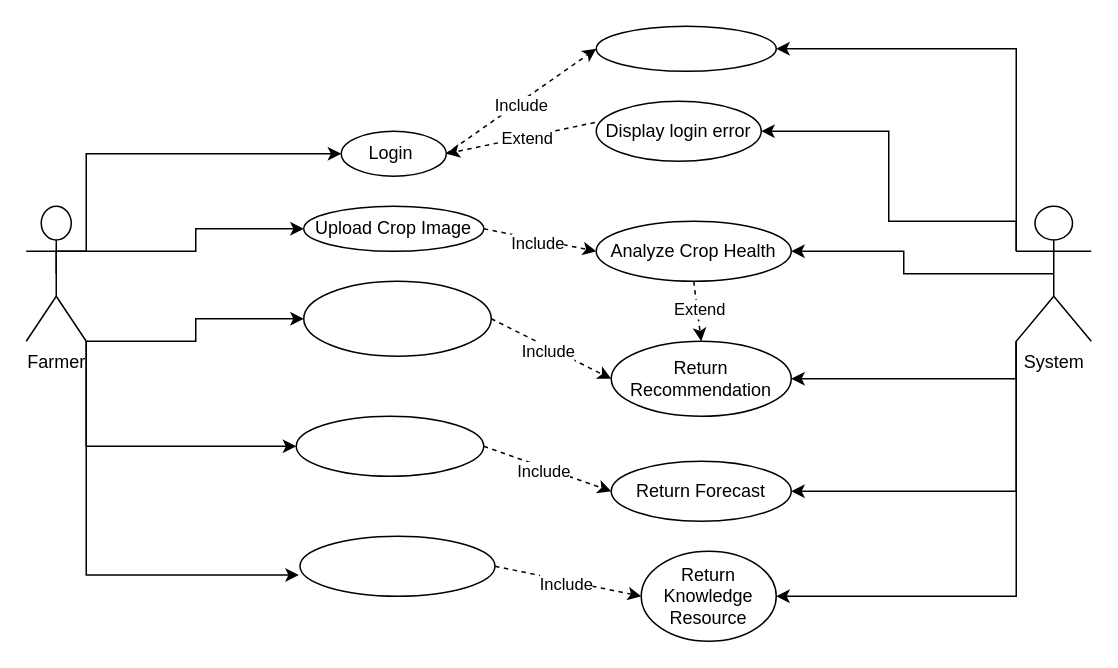
Image size: 1118x668. Some labels were removed from this diagram. Each missing label, with the box of its shape:
Access knowledge base: (298, 535, 495, 596)
Check Weather Forecast: (295, 415, 484, 476)
Receive Recommendations: (302, 280, 491, 356)
Verify password: (595, 25, 776, 71)
